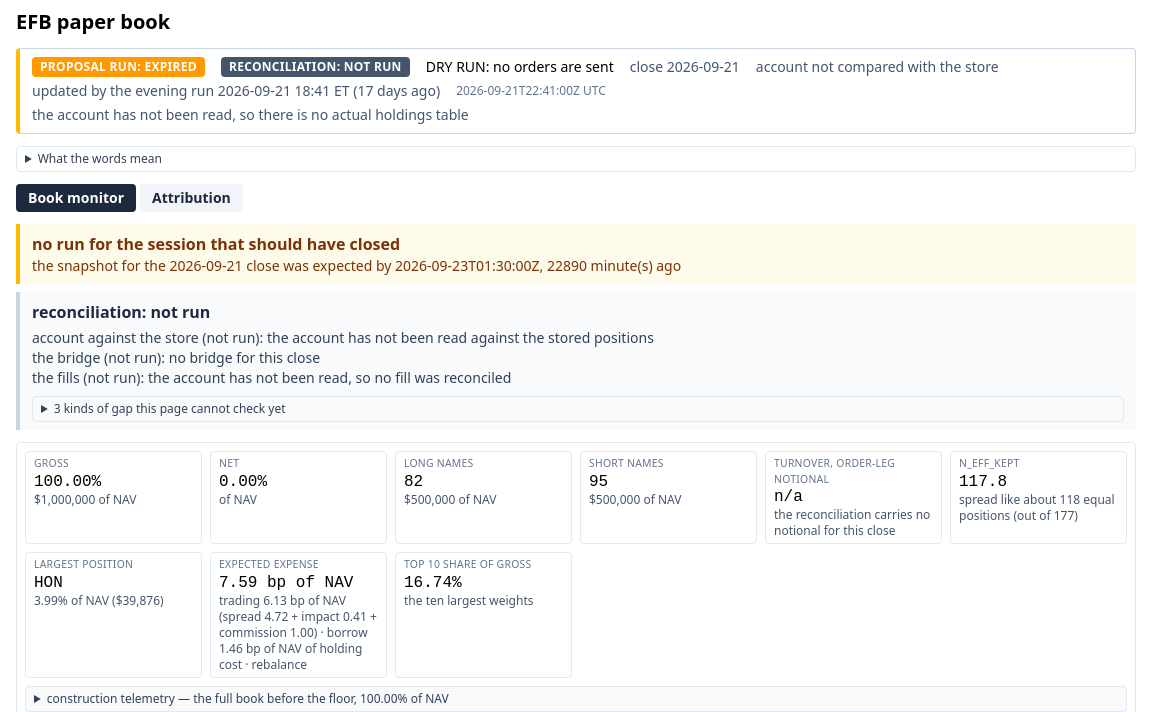
Test: the realized against forecast chart › names both series it draws, with the unit in the legend
The width and height of the screenshot is (1152, 712).
Click the tab "Attribution" at [191, 198], box x1=140 y1=184 x2=243 y2=212
(page scrolled)
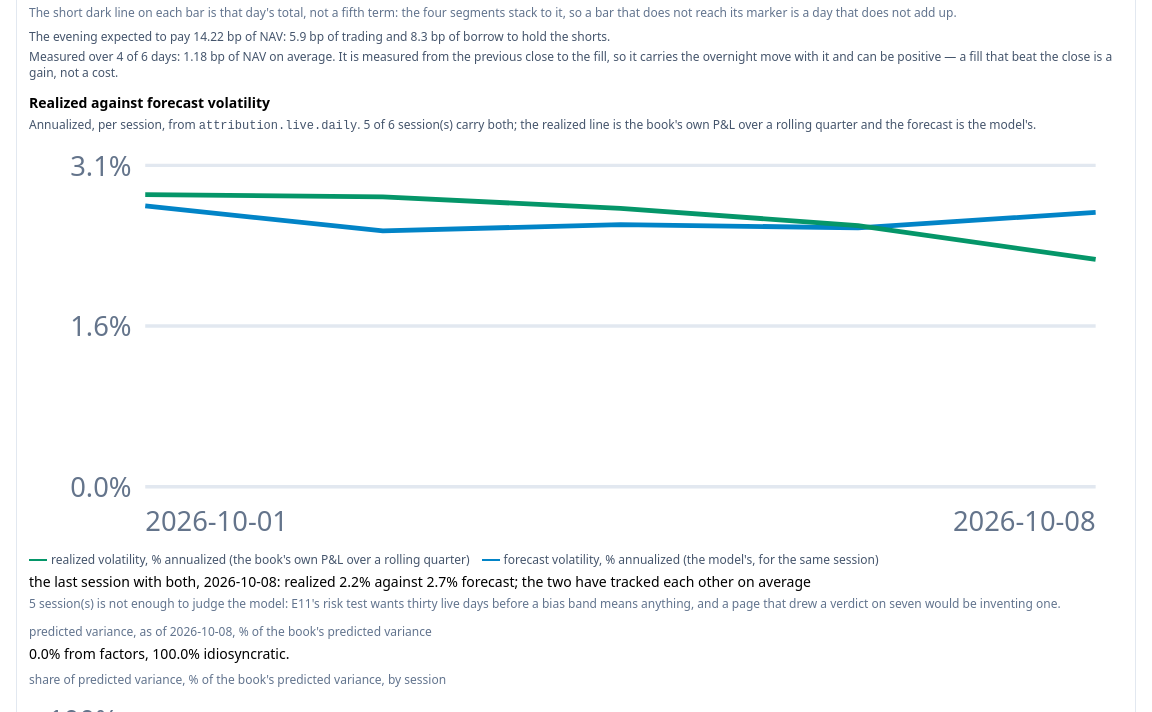
Expected: the element named "0.0%1.6%3.1%2026-10-012026-10-08" is shown
